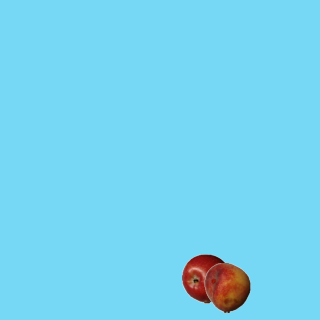Apple Braeburn: (181, 253, 231, 303)
Peach: (202, 262, 252, 312)
